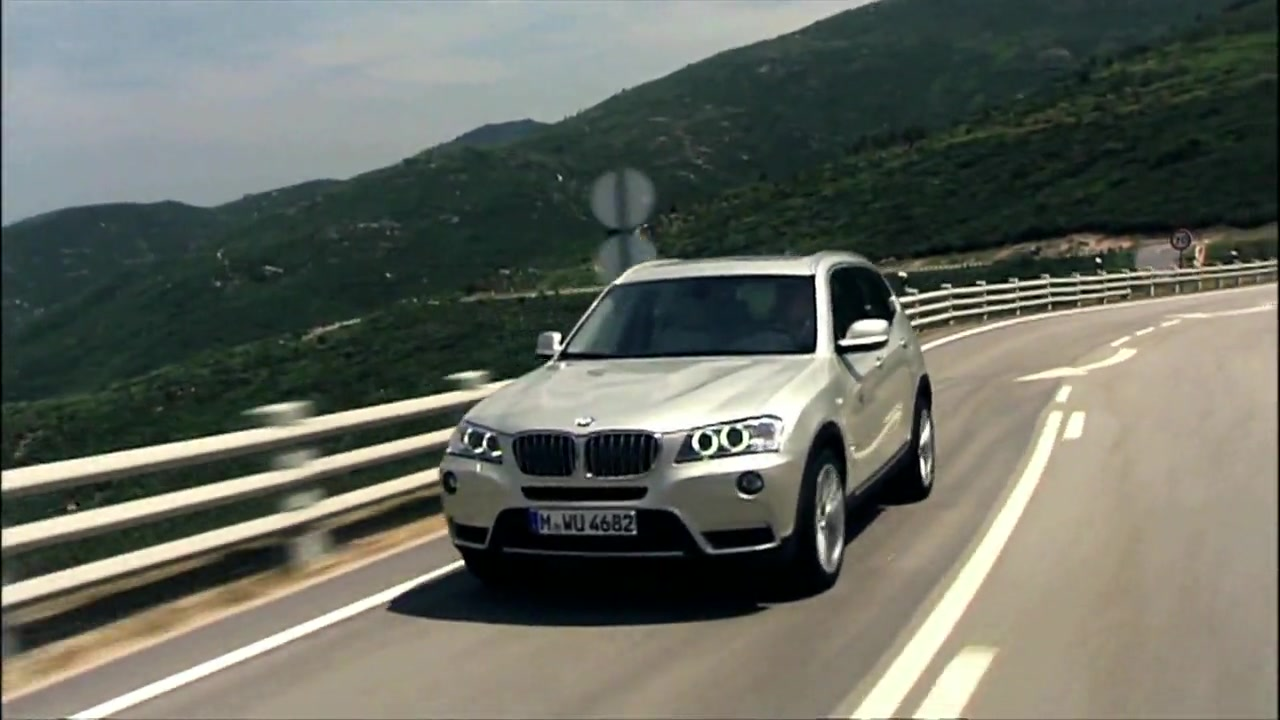car: (437, 246, 942, 604)
